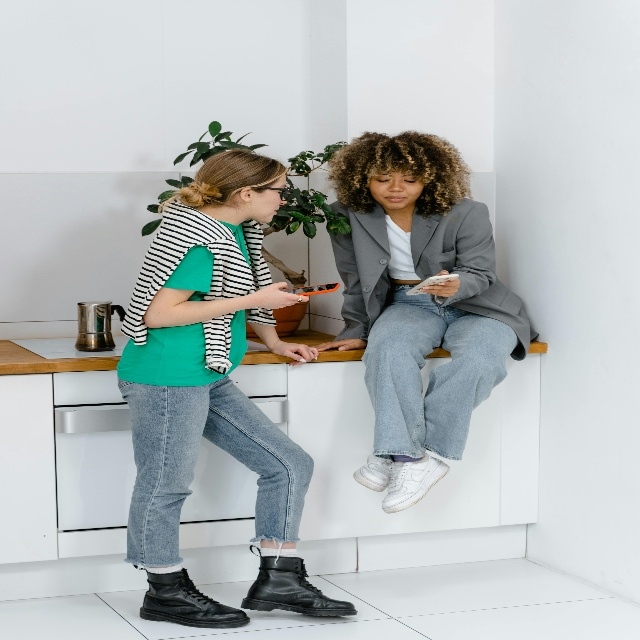Gafas: (251, 186, 293, 200)
Sin_guantes: (256, 280, 310, 310), (419, 267, 460, 299), (271, 340, 318, 367), (311, 338, 367, 351)
